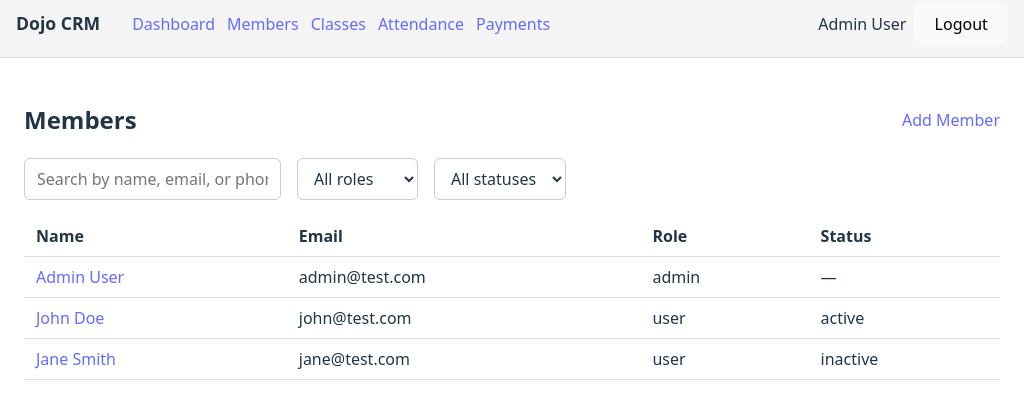
Test: MemberListPage › filters by role
Expected: the link "John Doe" is shown, [36,307,104,329]
Select "Admin" in the dropdown named "Filter by role" at (358, 179), box [297,158,418,200]
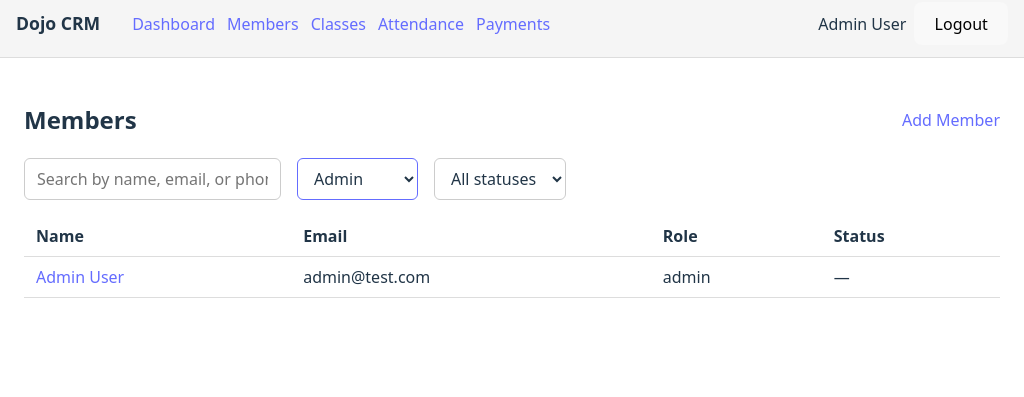
Expected: the link "Admin User" is shown, [36,266,124,288]
Expected: the link "John Doe" is gone
